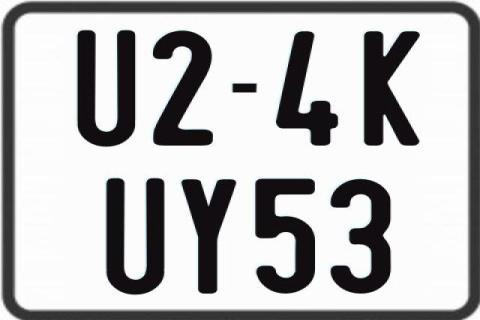0: (275, 29, 343, 145), (150, 28, 215, 146), (330, 179, 392, 295), (254, 176, 314, 294)
K: (361, 31, 422, 148)
U: (76, 29, 140, 147), (105, 178, 169, 294)
Y: (182, 177, 237, 291)
